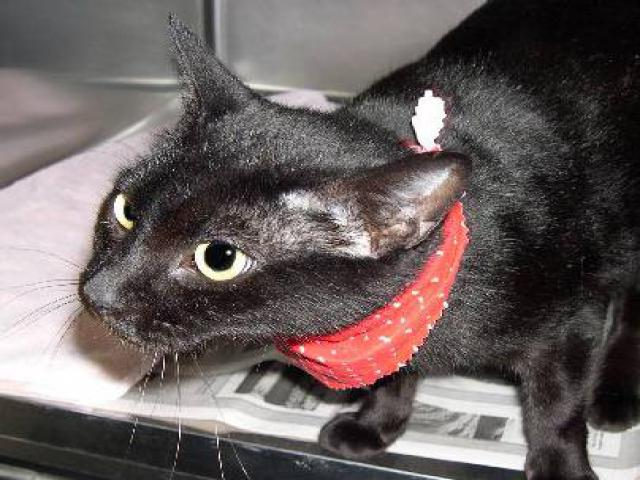cat: (54, 8, 630, 475)
